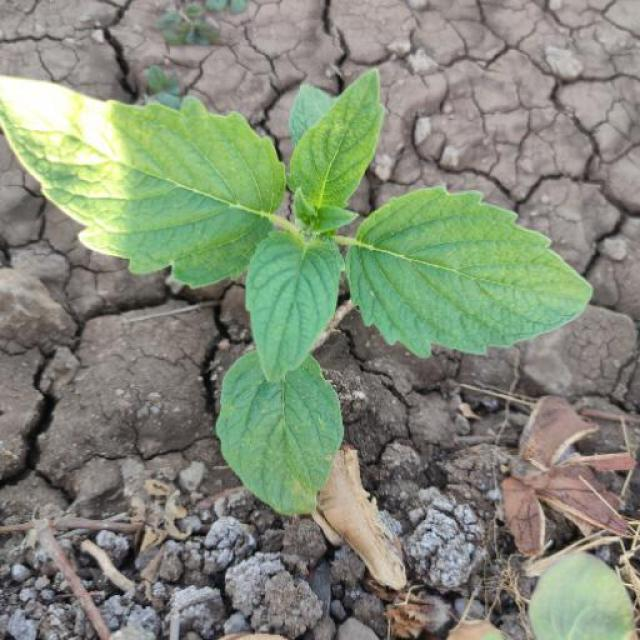crop: (4, 62, 605, 500)
